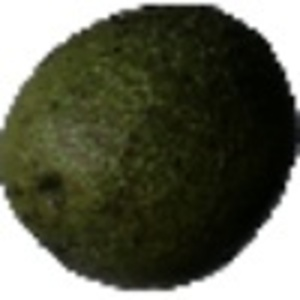abacate: (1, 3, 297, 289)
